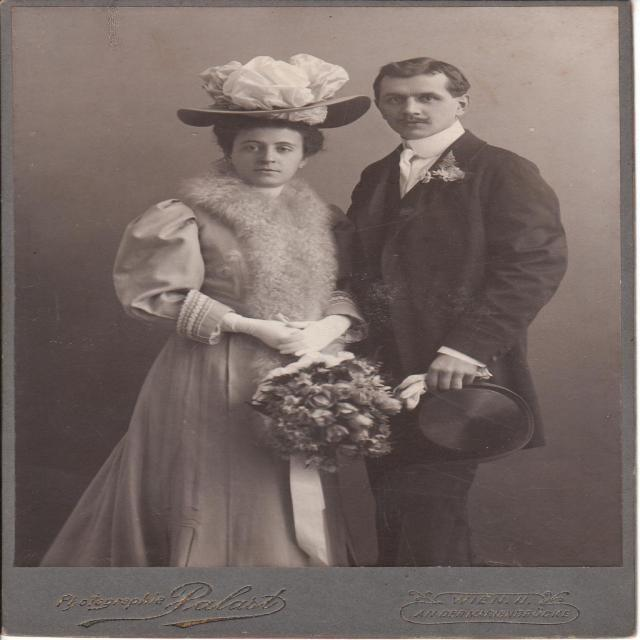nomask: (376, 76, 452, 138), (230, 125, 306, 184)
